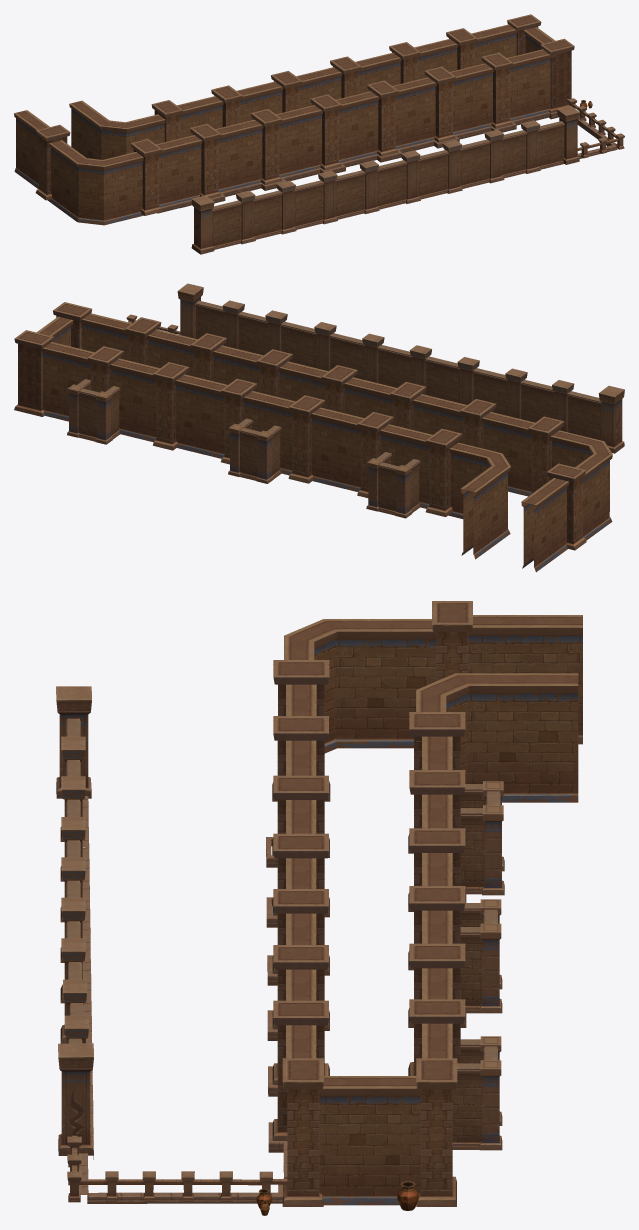
Rendered from Area_07_12.fbx.
3 renders of one model, top to bottom at view 1: azimuth 30°, elevation 25°; view 2: azimuth 150°, elevation 25°; view 3: azimuth 270°, elevation 25°, orthographic. The views are drawn at different scales.
Parts seen in each view (by area): view 1: Area_07_12; view 2: Area_07_12; view 3: Area_07_12.
Boxes of the visible parts, <box> form: Area_07_12: <box>14,14,624,254</box>; Area_07_12: <box>14,283,624,572</box>; Area_07_12: <box>56,601,582,1215</box>.
Size of the model in its own units: 6446 by 818 by 2915.
